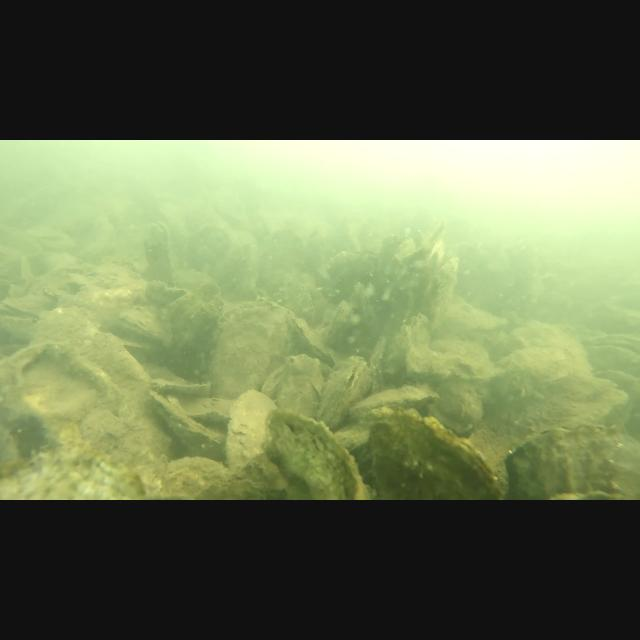Oyster-Closed: (28, 306, 156, 442), (368, 406, 504, 500), (0, 340, 120, 424), (266, 408, 366, 500), (503, 424, 621, 500), (208, 302, 294, 401), (164, 282, 223, 382), (226, 390, 280, 474), (146, 389, 224, 447), (260, 354, 324, 422), (492, 346, 574, 396), (346, 382, 438, 420), (432, 382, 484, 432), (177, 396, 235, 426), (349, 282, 378, 332), (328, 300, 354, 346), (295, 285, 319, 323), (370, 334, 384, 368)
Oyster-Open: (316, 355, 370, 433), (414, 238, 458, 330), (386, 314, 432, 382), (0, 294, 52, 340), (290, 314, 334, 364), (142, 220, 174, 284), (116, 308, 164, 340)
